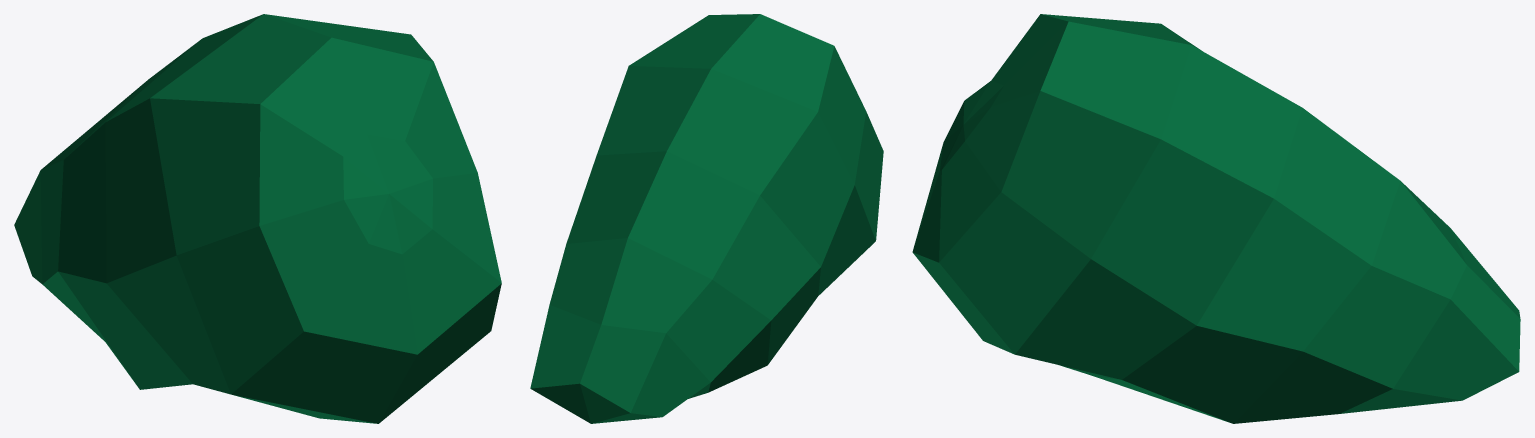
The model's file is Arbusto1.fbx.
The picture shows the model from 3 angles, left to right: view 1: azimuth 30°, elevation 25°; view 2: azimuth 150°, elevation 25°; view 3: azimuth 270°, elevation 25°; orthographic projection. The views are drawn at different scales.
Visible parts, largest first — view 1: Sphere.001; view 2: Sphere.001; view 3: Sphere.001.
Boxes of the visible parts, x1,y1,x2,y2 form: Sphere.001: (14, 14, 501, 423); Sphere.001: (530, 14, 883, 423); Sphere.001: (912, 14, 1520, 423).
Size of the model in its own units: 106 by 129 by 199.
